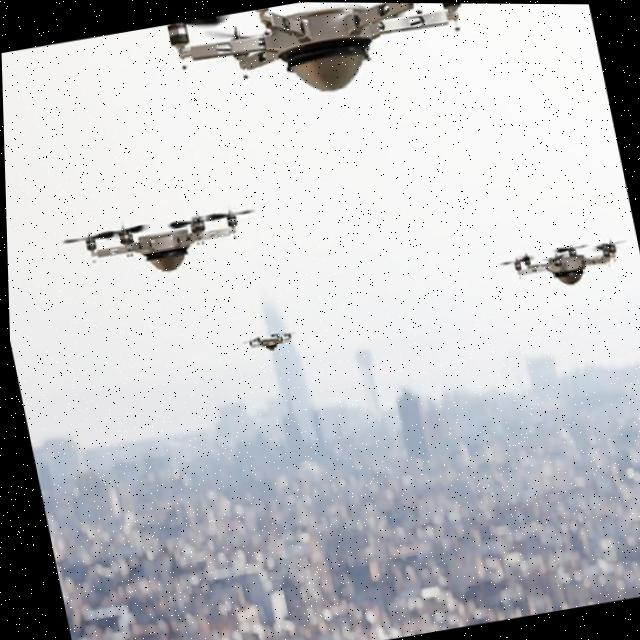drones: (114, 1, 518, 150), (34, 166, 283, 308), (475, 204, 640, 321), (217, 297, 320, 384)
